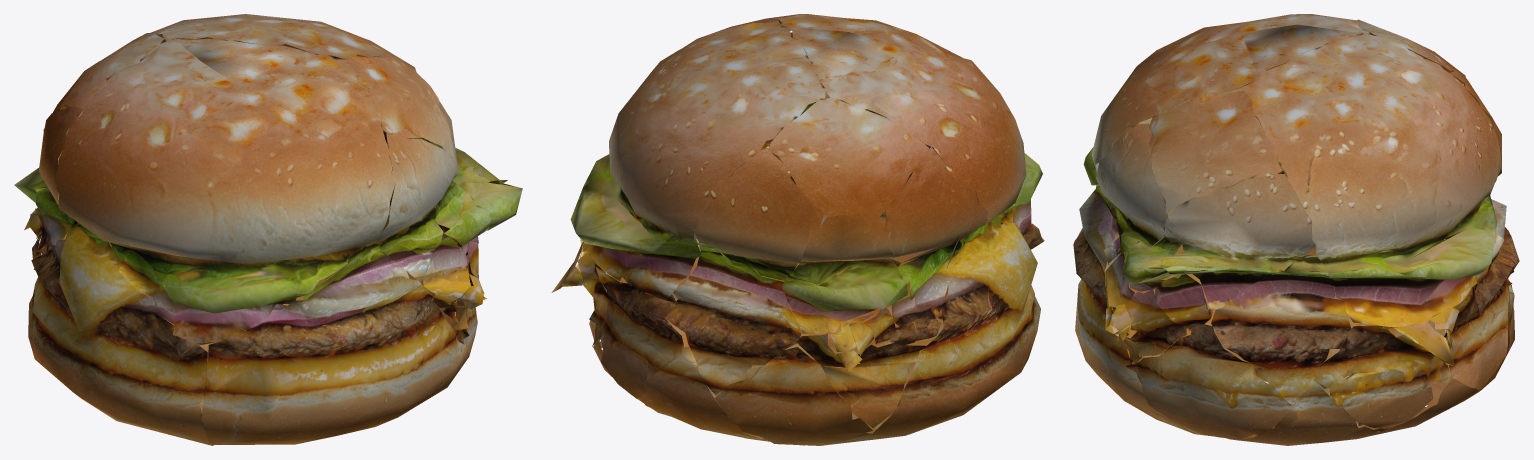
File: Burgerr.fbx
The picture shows the model from 3 angles, left to right: view 1: azimuth 30°, elevation 25°; view 2: azimuth 150°, elevation 25°; view 3: azimuth 270°, elevation 25°; orthographic projection.
Parts seen in each view (by area): view 1: Mesh_0; view 2: Mesh_0; view 3: Mesh_0.
Boxes of the visible parts, bbox=[...] form: Mesh_0: bbox=[14, 14, 522, 445]; Mesh_0: bbox=[551, 14, 1044, 445]; Mesh_0: bbox=[1073, 14, 1519, 445].
Bounding box in the file's own units: 120 × 102 × 119.
